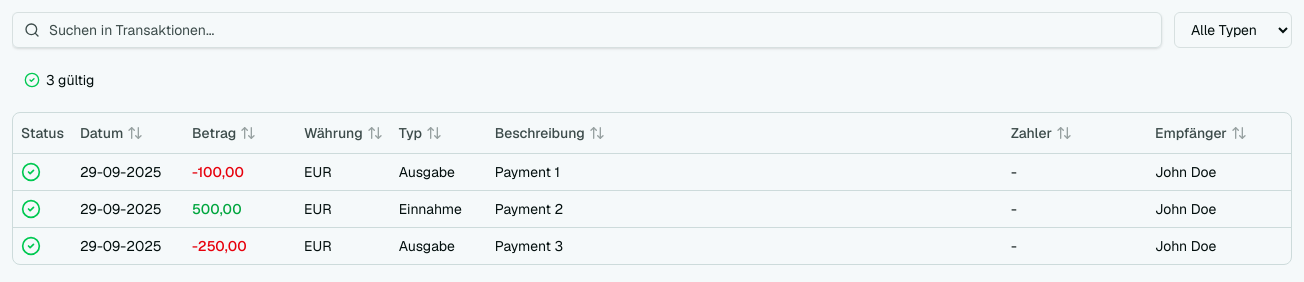
Test: DataTable › should filter data when searching
Type "Payment 1" into the field with placeholder "Suchen in Transaktionen..." at (587, 30), box [12,12,1162,48]
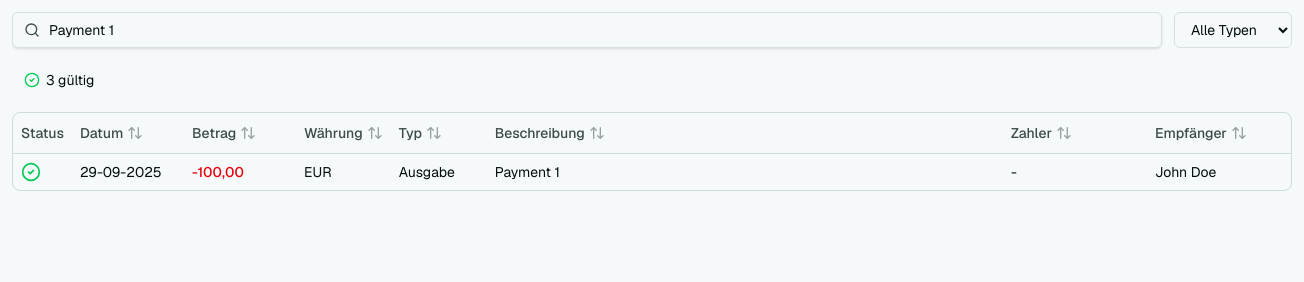
Now the text "Payment 2" is gone
Now the text "Payment 3" is gone
